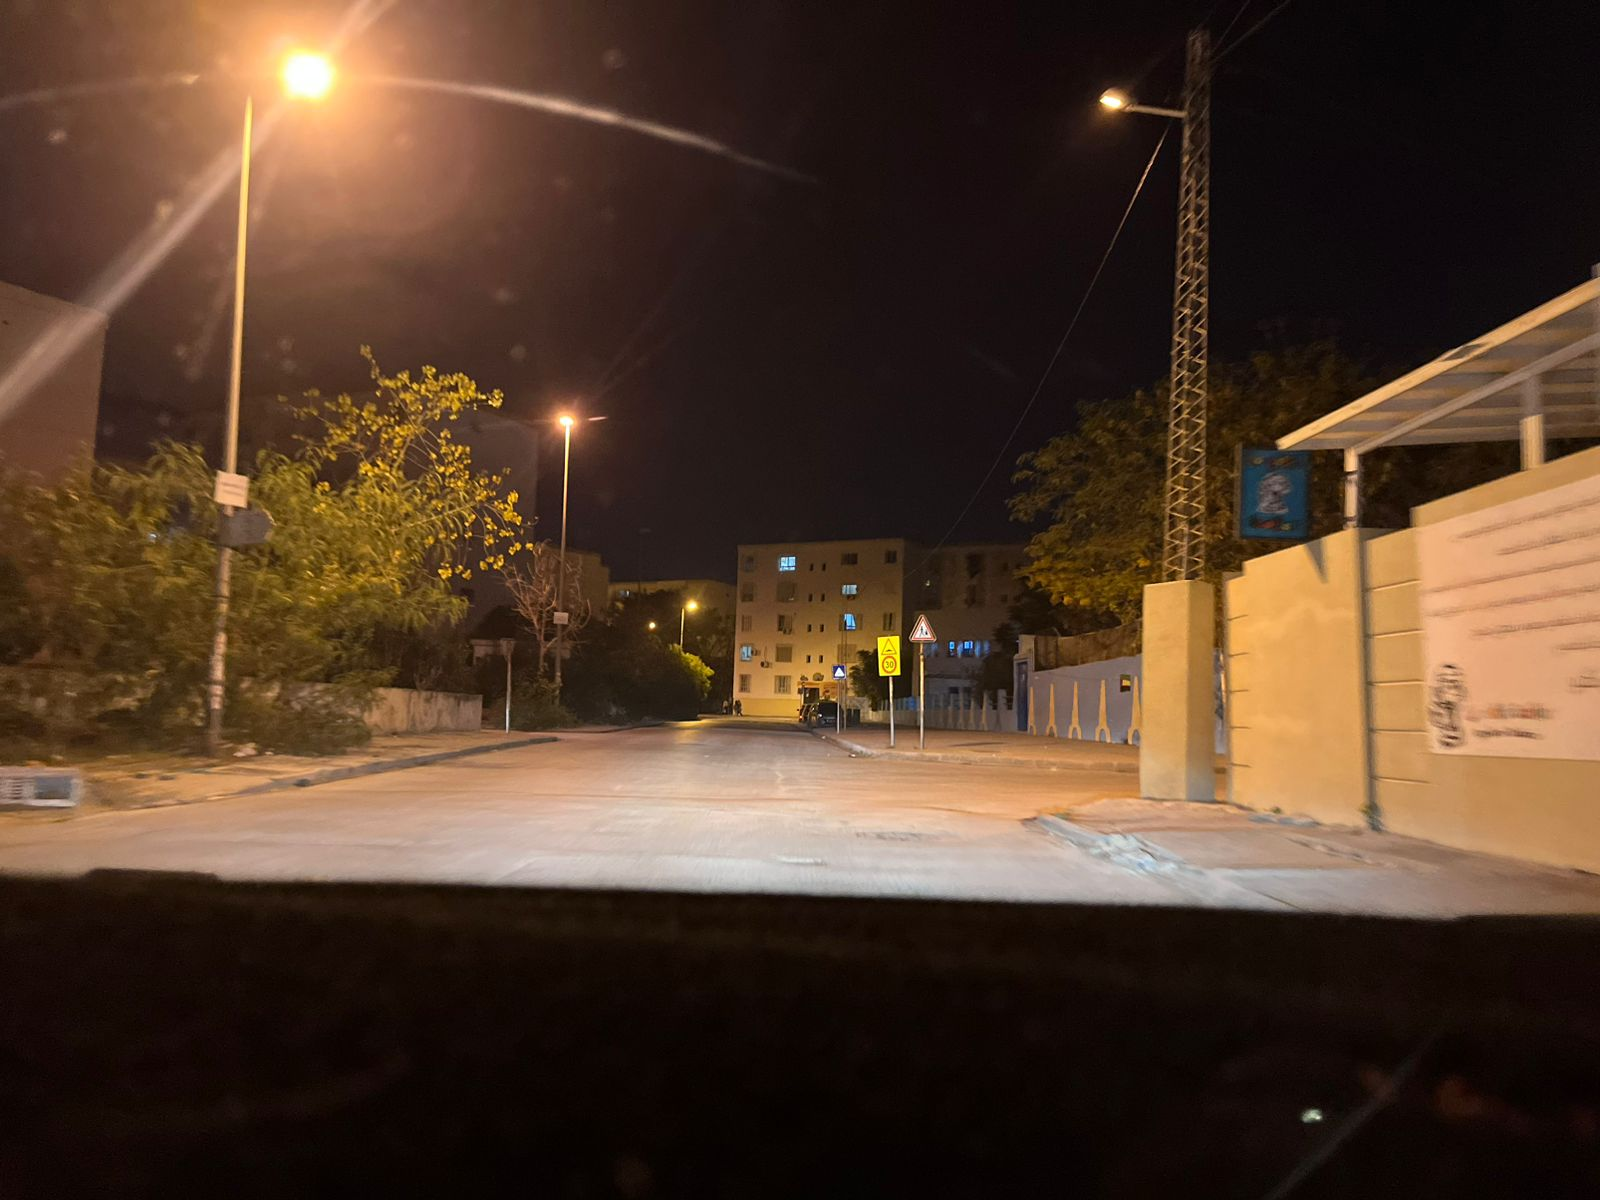SpeedLimit30: (877, 635, 901, 676)
